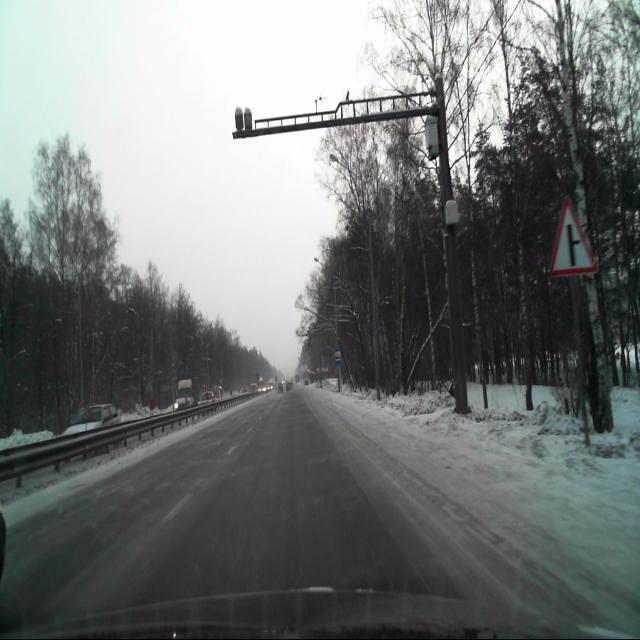object: (570, 277, 590, 446)
road sign: (550, 193, 598, 277)
